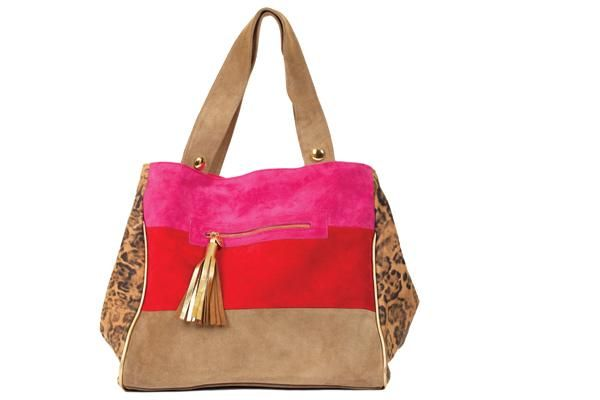cartera: (94, 5, 477, 398)
gamuza: (231, 184, 354, 218)
